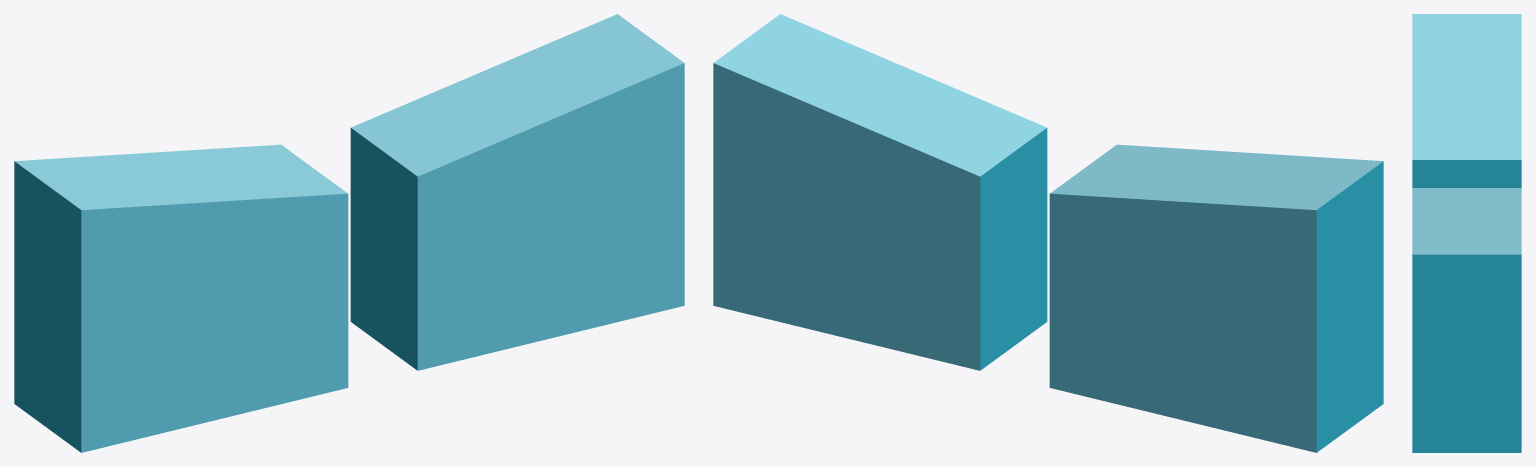
File: D_FBX_01_End_Wall.fbx
3 renders of one model, left to right at view 1: azimuth 30°, elevation 25°; view 2: azimuth 150°, elevation 25°; view 3: azimuth 270°, elevation 25°, orthographic. The views are drawn at different scales.
Parts seen in each view (by area): view 1: D_FBX_01_End_Wall; view 2: D_FBX_01_End_Wall; view 3: D_FBX_01_End_Wall.
Boxes of the visible parts, x1,y1,x2,y2 form: D_FBX_01_End_Wall: (14,14,684,452); D_FBX_01_End_Wall: (713,14,1383,452); D_FBX_01_End_Wall: (1412,14,1521,452).
Bounding box in the file's own units: 1300 × 500 × 250.
